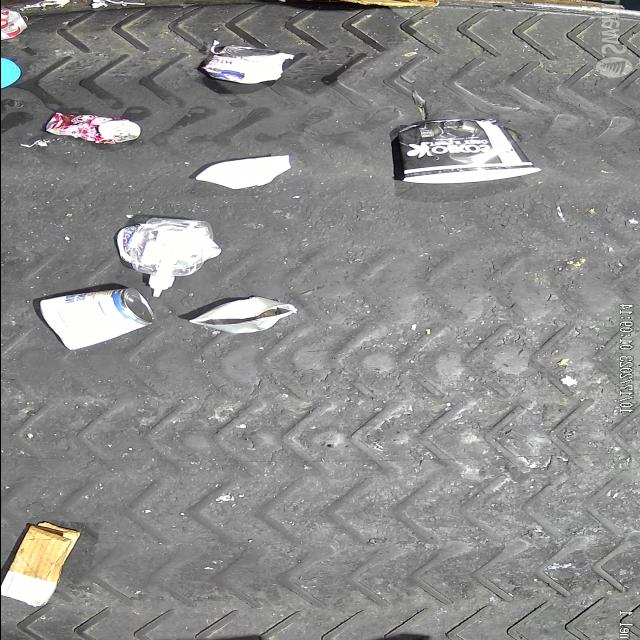can: (37, 286, 156, 352), (188, 296, 298, 334), (44, 110, 140, 144), (204, 47, 286, 83), (0, 5, 30, 44)
